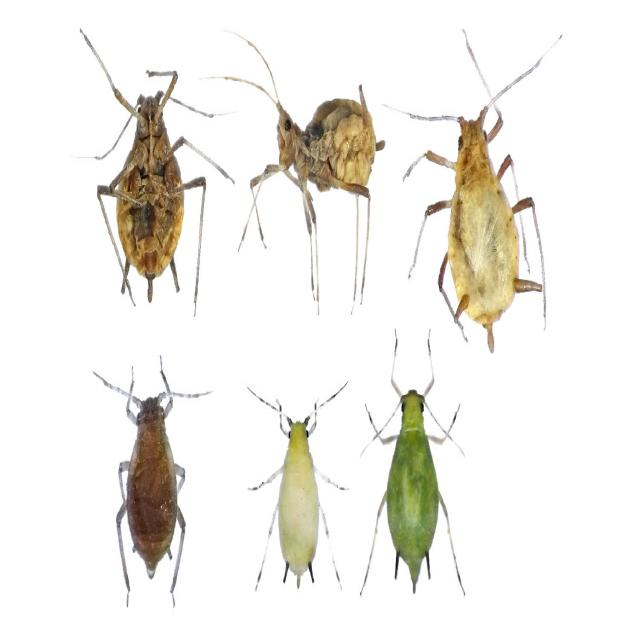Aphid-Grown-: (353, 331, 471, 596), (95, 356, 202, 598), (243, 371, 357, 590)
